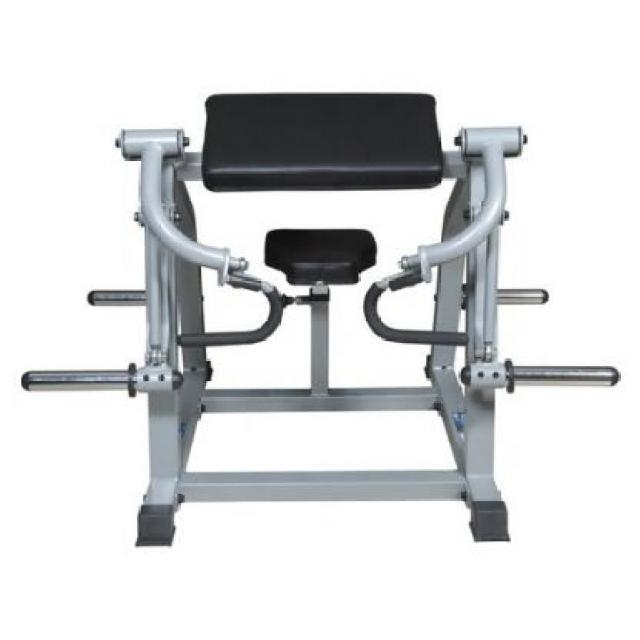arm curl machine: (23, 90, 620, 548)
